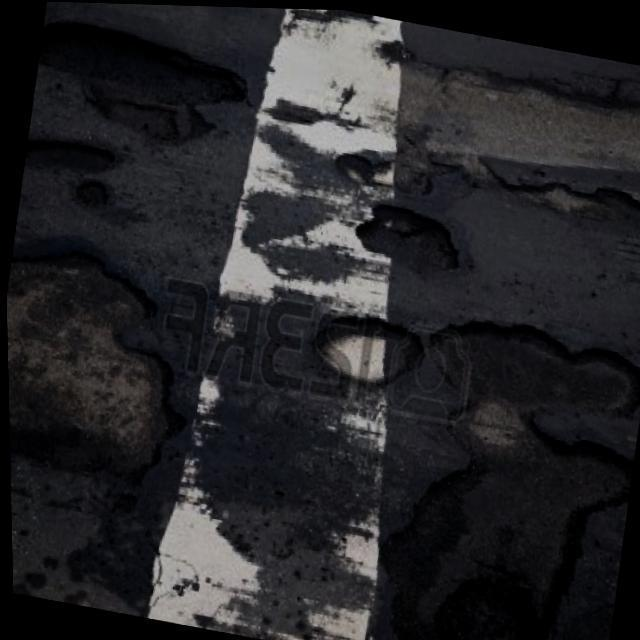Pothole: (383, 326, 640, 640), (5, 254, 174, 475), (38, 23, 247, 143), (361, 199, 459, 271), (313, 319, 419, 381), (24, 136, 112, 168), (75, 181, 106, 207)
